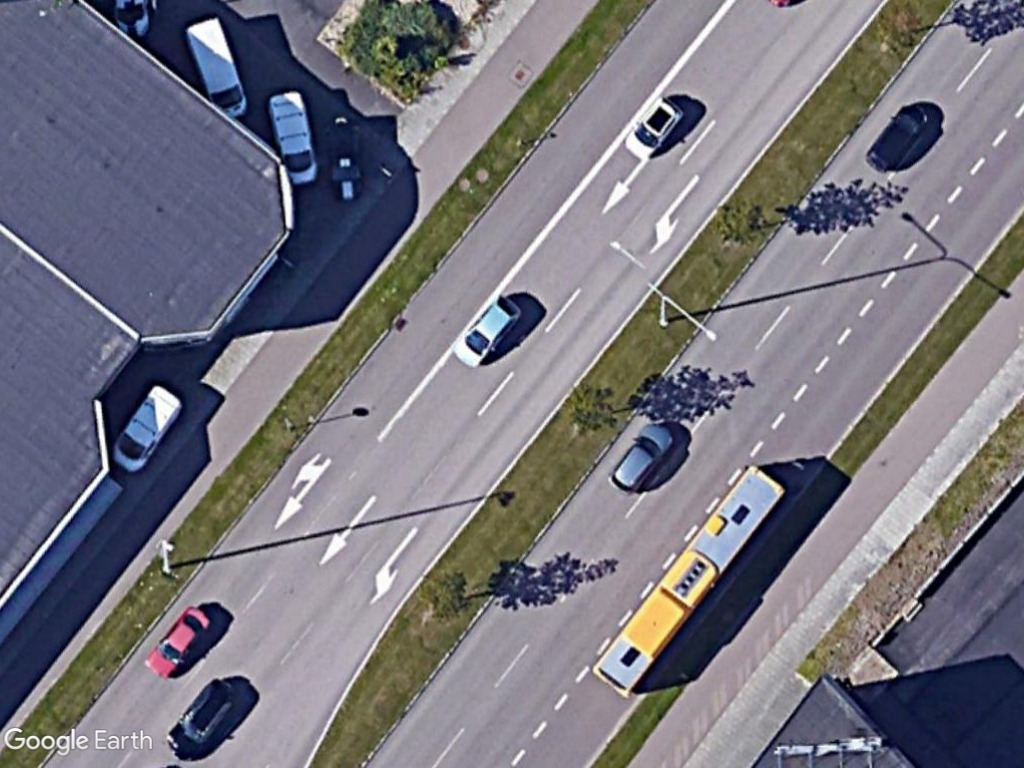bus: (584, 460, 788, 703)
car: (163, 673, 241, 764), (601, 418, 679, 499), (144, 602, 219, 684), (446, 294, 524, 371), (861, 98, 933, 176), (618, 90, 686, 165)
van: (109, 381, 185, 473), (185, 16, 252, 120), (268, 89, 323, 192)
